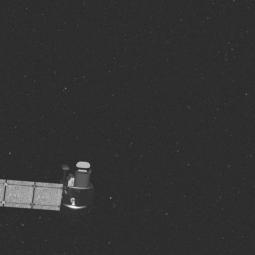earth_observation_sat_1: (0, 156, 102, 210)
